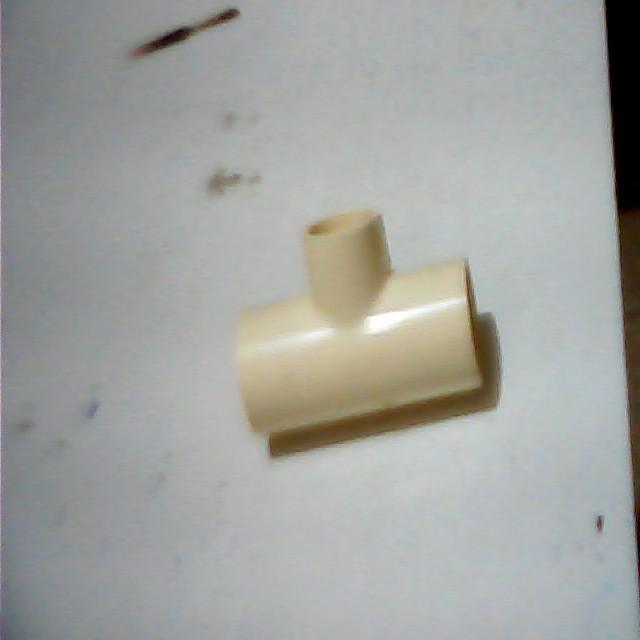T Joint: (216, 185, 514, 459)
